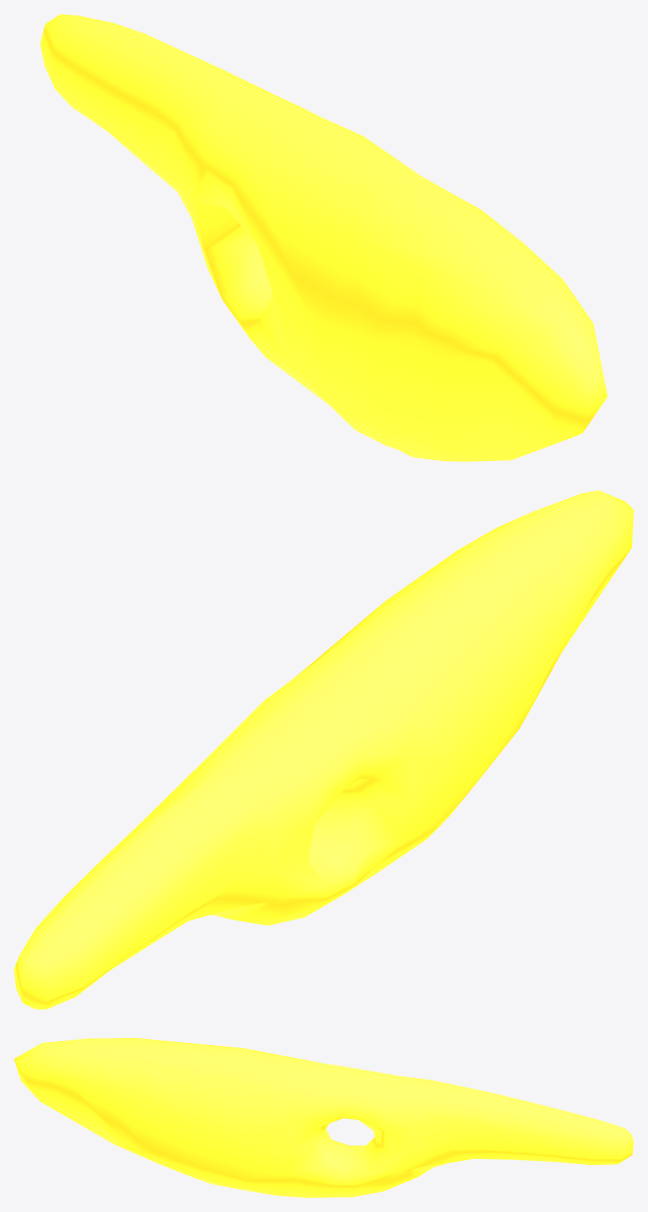
Rendered from coutal (1).fbx.
The picture shows the model from 3 angles, top to bottom: view 1: azimuth 30°, elevation 25°; view 2: azimuth 150°, elevation 25°; view 3: azimuth 270°, elevation 25°; orthographic projection. The views are drawn at different scales.
Parts seen in each view (by area): view 1: Plane; view 2: Plane; view 3: Plane.
Part boxes in pixels (x1,y1,x2,y2): Plane: (40, 14, 607, 461); Plane: (14, 490, 633, 1009); Plane: (14, 1038, 633, 1197).
Size of the model in its own units: 3.5 by 5.95 by 22.61.
